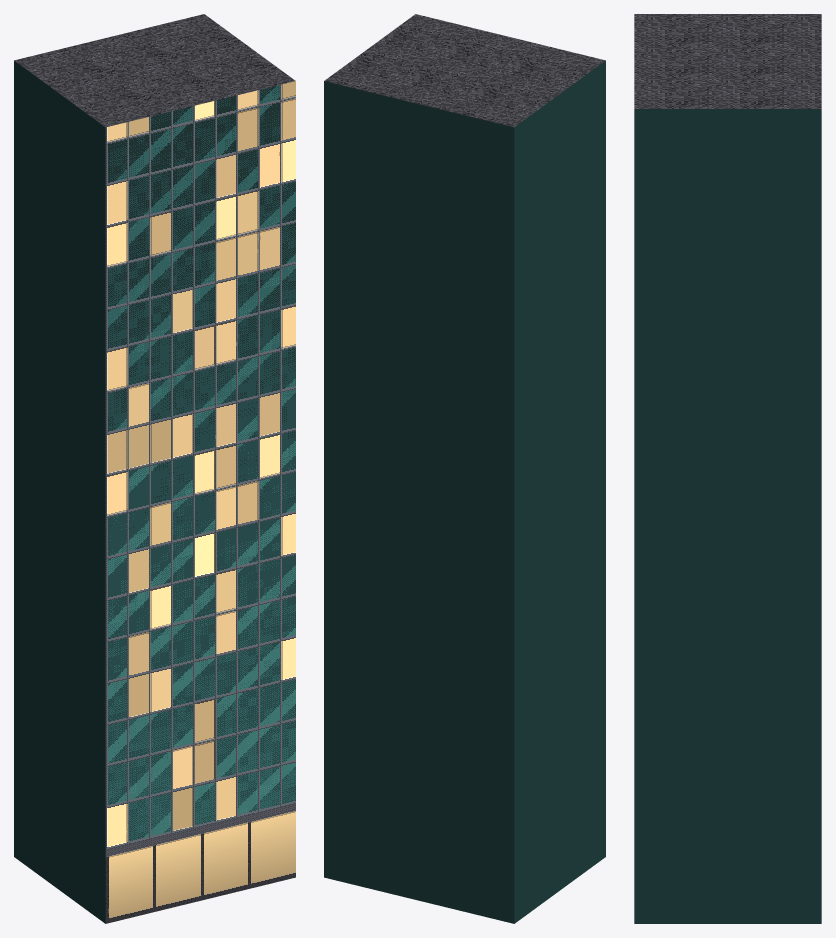
File: Kulisse_15.glb
3 renders of one model, left to right at view 1: azimuth 30°, elevation 25°; view 2: azimuth 150°, elevation 25°; view 3: azimuth 270°, elevation 25°, orthographic. The views are drawn at different scales.
Parts seen in each view (by area): view 1: Kulisse_15; view 2: Kulisse_15; view 3: Kulisse_15.
Boxes of the visible parts, x1=… form: Kulisse_15: x1=14, y1=14, x2=295, y2=923; Kulisse_15: x1=324, y1=14, x2=605, y2=923; Kulisse_15: x1=634, y1=14, x2=821, y2=923.
Bounding box in the file's own units: 12 × 48 × 10.
3 materials, 2 textured.
